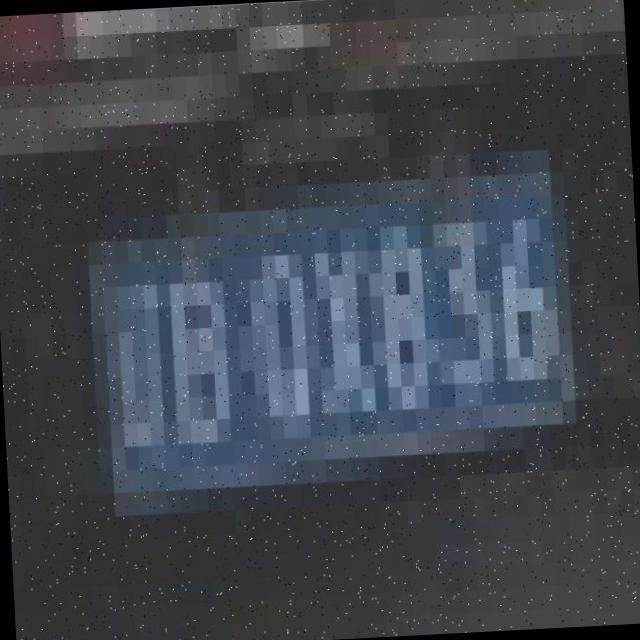License Plate: (70, 136, 618, 548)
